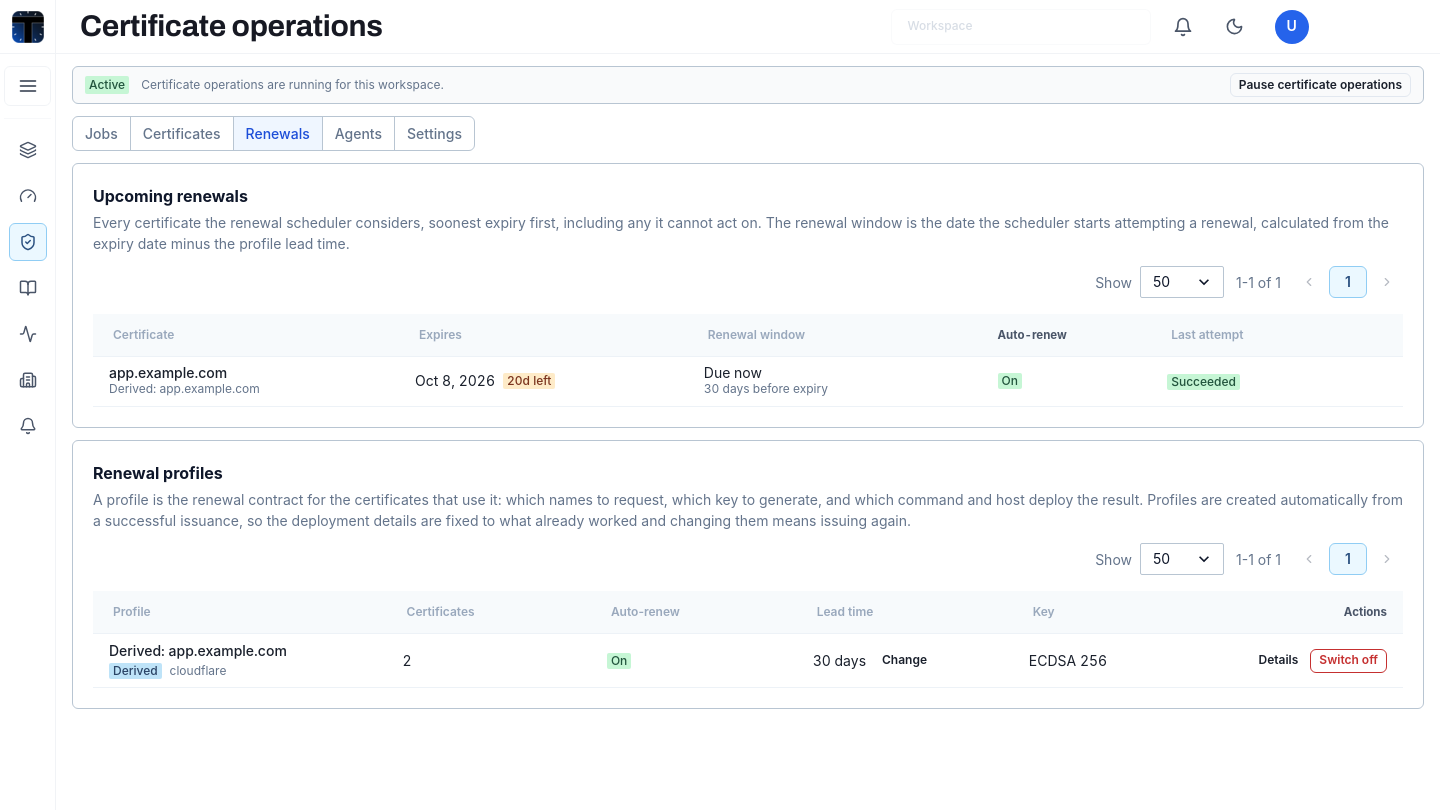
Test: CertOpsRenewals page › requires confirmation before switching automatic renewal off
Step 1. Click the button "Switch off" → (1349, 661), box [1310,649,1387,673]
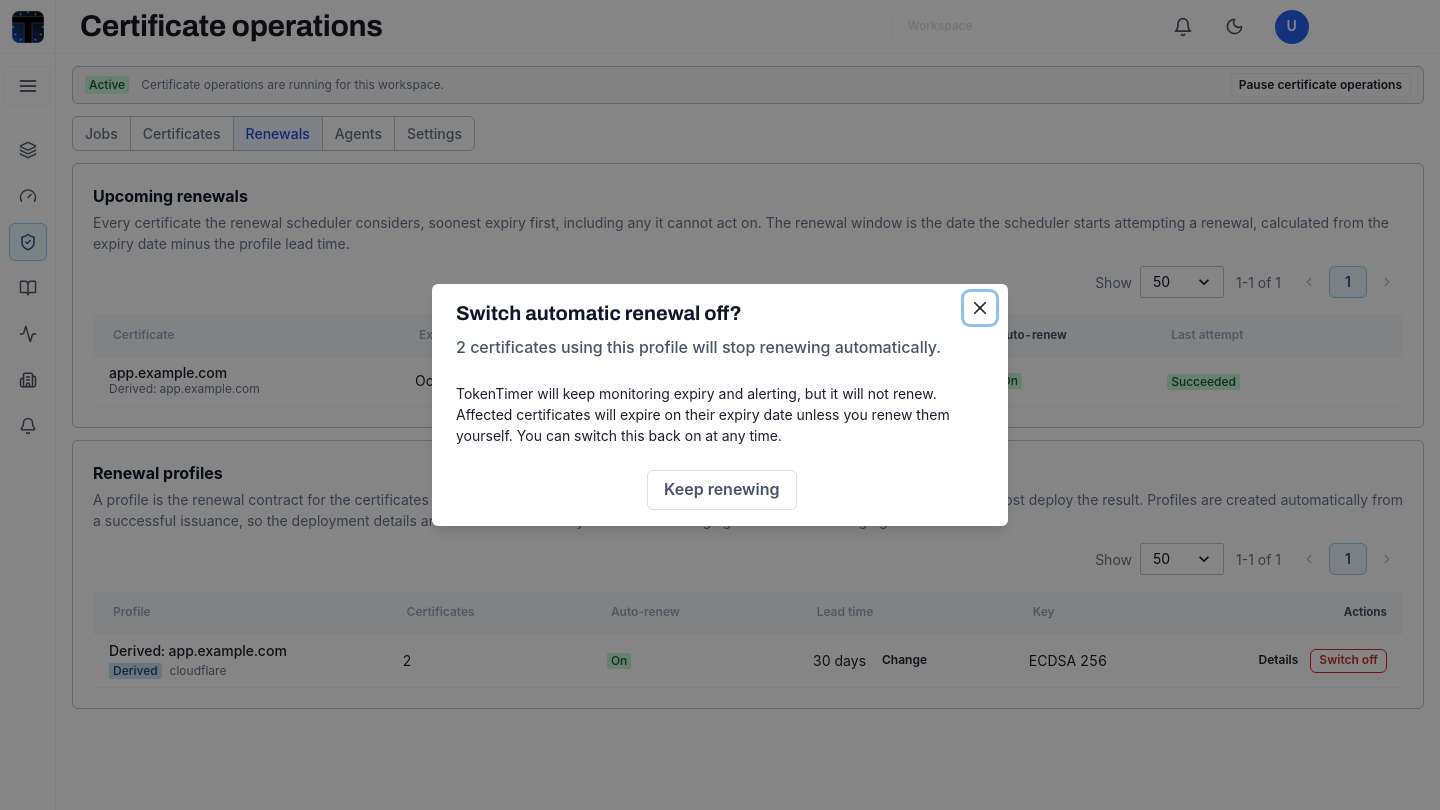
Expected: the text "Switch automatic renewal off?" is shown, [456,302,742,324]
Expected: the text "2 certificates using this profile will stop renewing automatically." is shown, [456,335,984,359]
